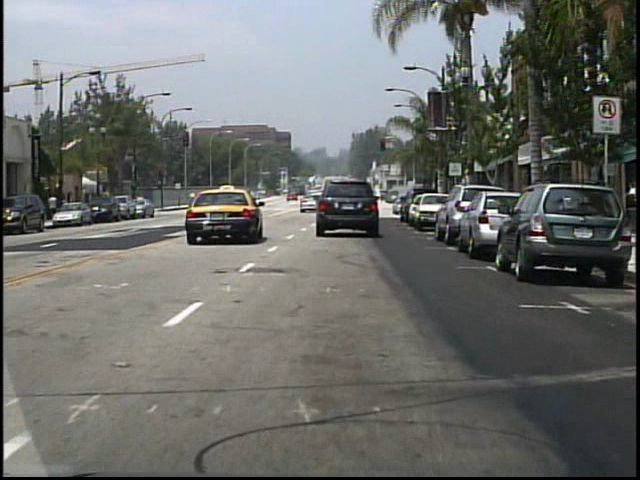person: (325, 191, 338, 213), (250, 190, 262, 211), (50, 193, 61, 215)
